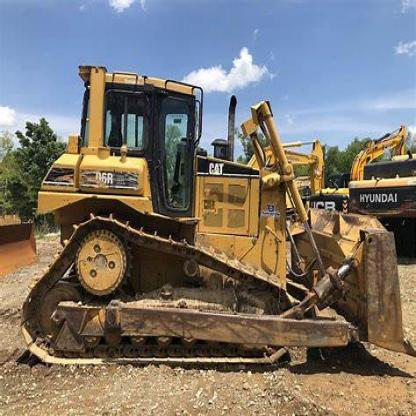bull_dozer/loader/grader: (30, 54, 415, 397)
